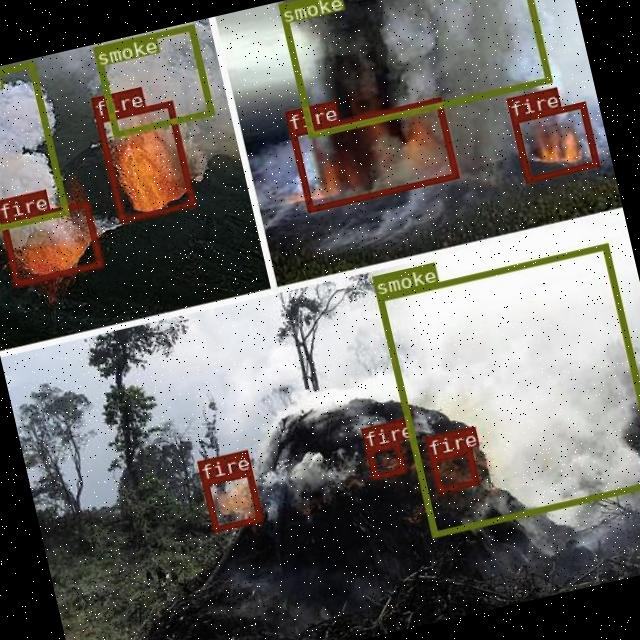fire: (288, 96, 458, 212), (94, 100, 194, 223), (0, 199, 102, 285), (508, 101, 598, 181), (200, 469, 262, 530), (428, 447, 478, 492), (364, 440, 406, 478)
smoke: (375, 242, 640, 537), (277, 0, 549, 137), (91, 23, 212, 136), (0, 59, 67, 234)
